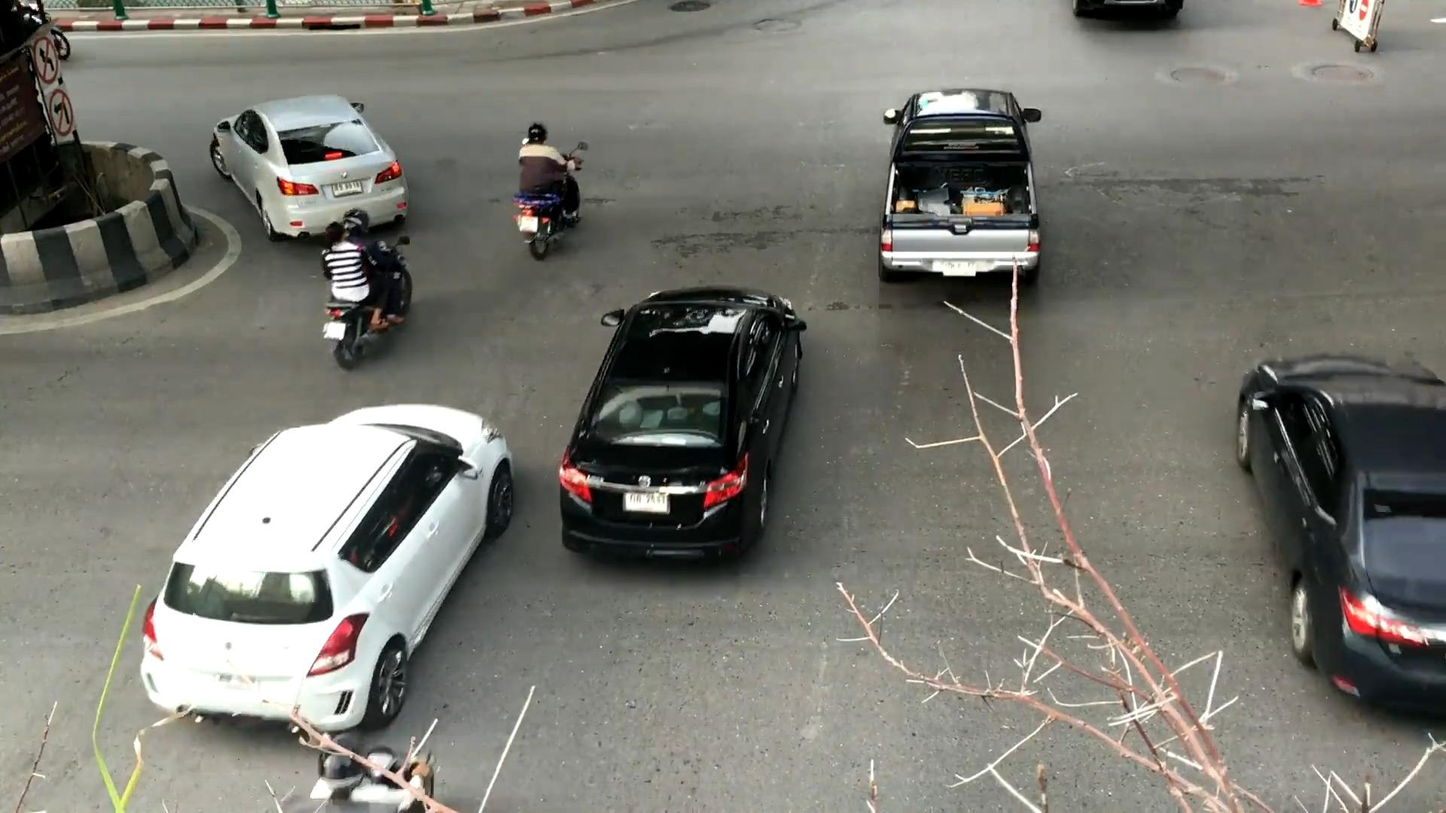driver: (321, 208, 413, 370), (514, 123, 587, 262)
helmet: (342, 208, 369, 237), (528, 123, 547, 144)
no-helmet: (324, 221, 345, 247)
